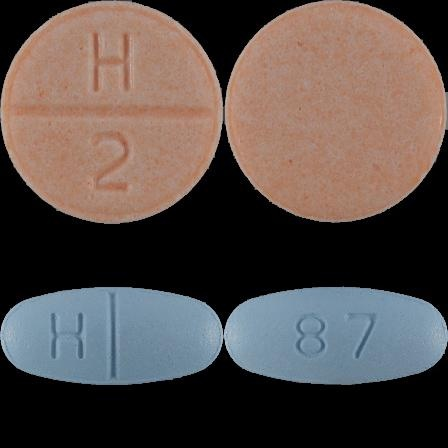0615-7974: (0, 0, 224, 224)
